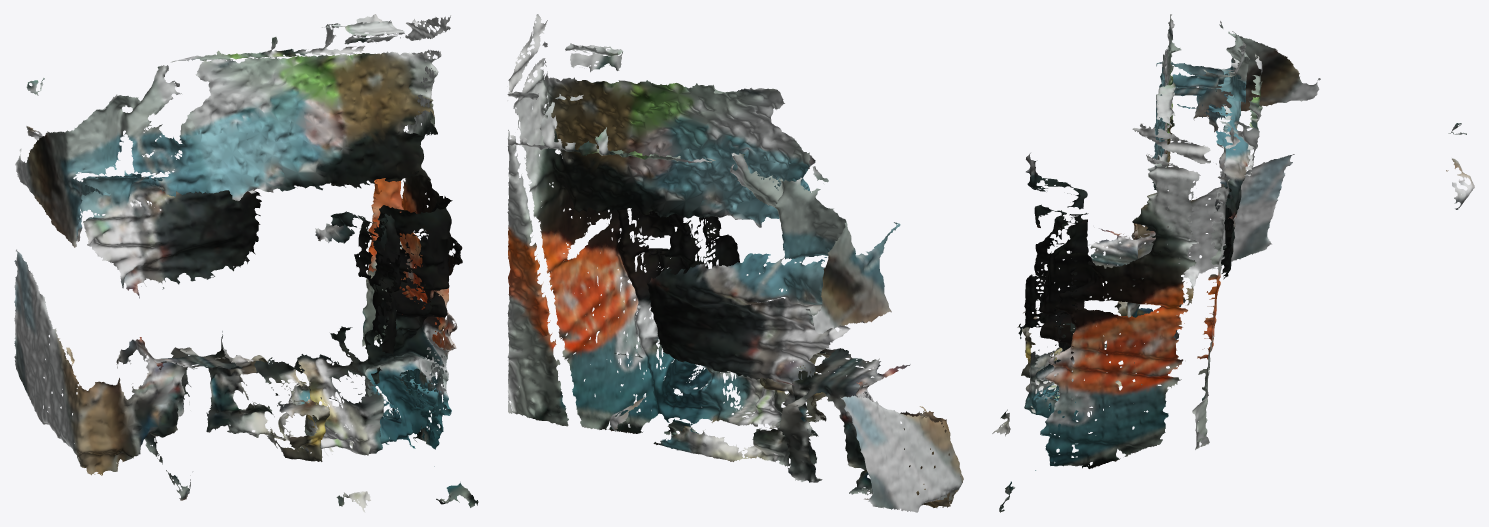
File: color_model_f005_20251226_165919.obj
The picture shows the model from 3 angles, left to right: view 1: azimuth 30°, elevation 25°; view 2: azimuth 150°, elevation 25°; view 3: azimuth 270°, elevation 25°; orthographic projection. The views are drawn at different scales.
Bounding box in the file's own units: 2.33 × 2.49 × 2.64.
